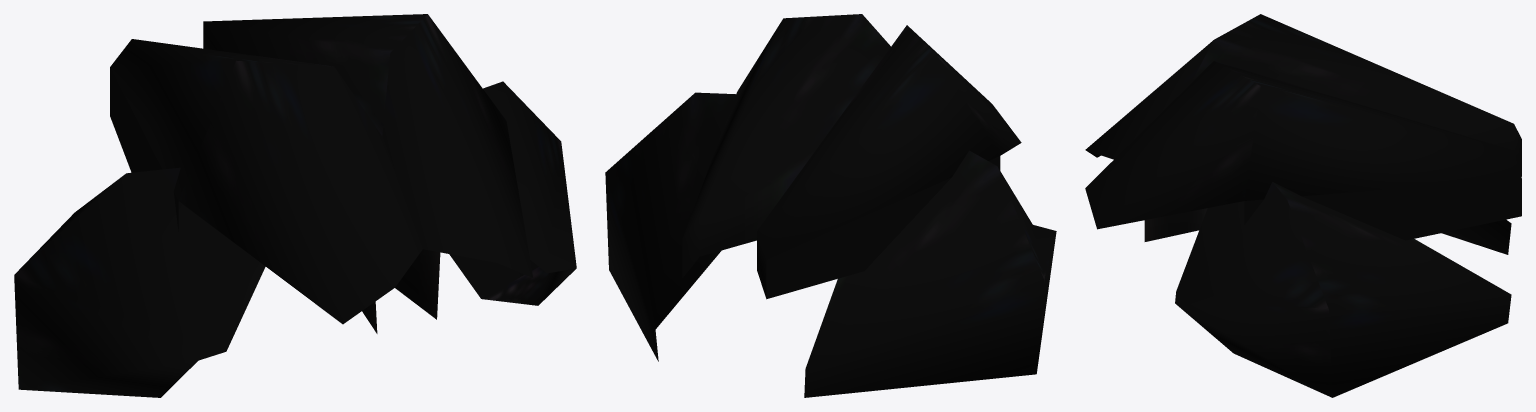
The model's file is hair_nok_m_01.dae.
3 renders of one model, left to right at view 1: azimuth 30°, elevation 25°; view 2: azimuth 150°, elevation 25°; view 3: azimuth 270°, elevation 25°, orthographic. The views are drawn at different scales.
Visible parts, largest first — view 1: hair_nok_m_01; view 2: hair_nok_m_01; view 3: hair_nok_m_01.
Boxes of the visible parts, x1,y1,x2,y2 form: hair_nok_m_01: [14, 14, 576, 397]; hair_nok_m_01: [605, 14, 1056, 397]; hair_nok_m_01: [1085, 14, 1521, 397].
Size of the model in its own units: 0.5311 by 0.4764 by 0.3078.
1 material, 1 textured.
